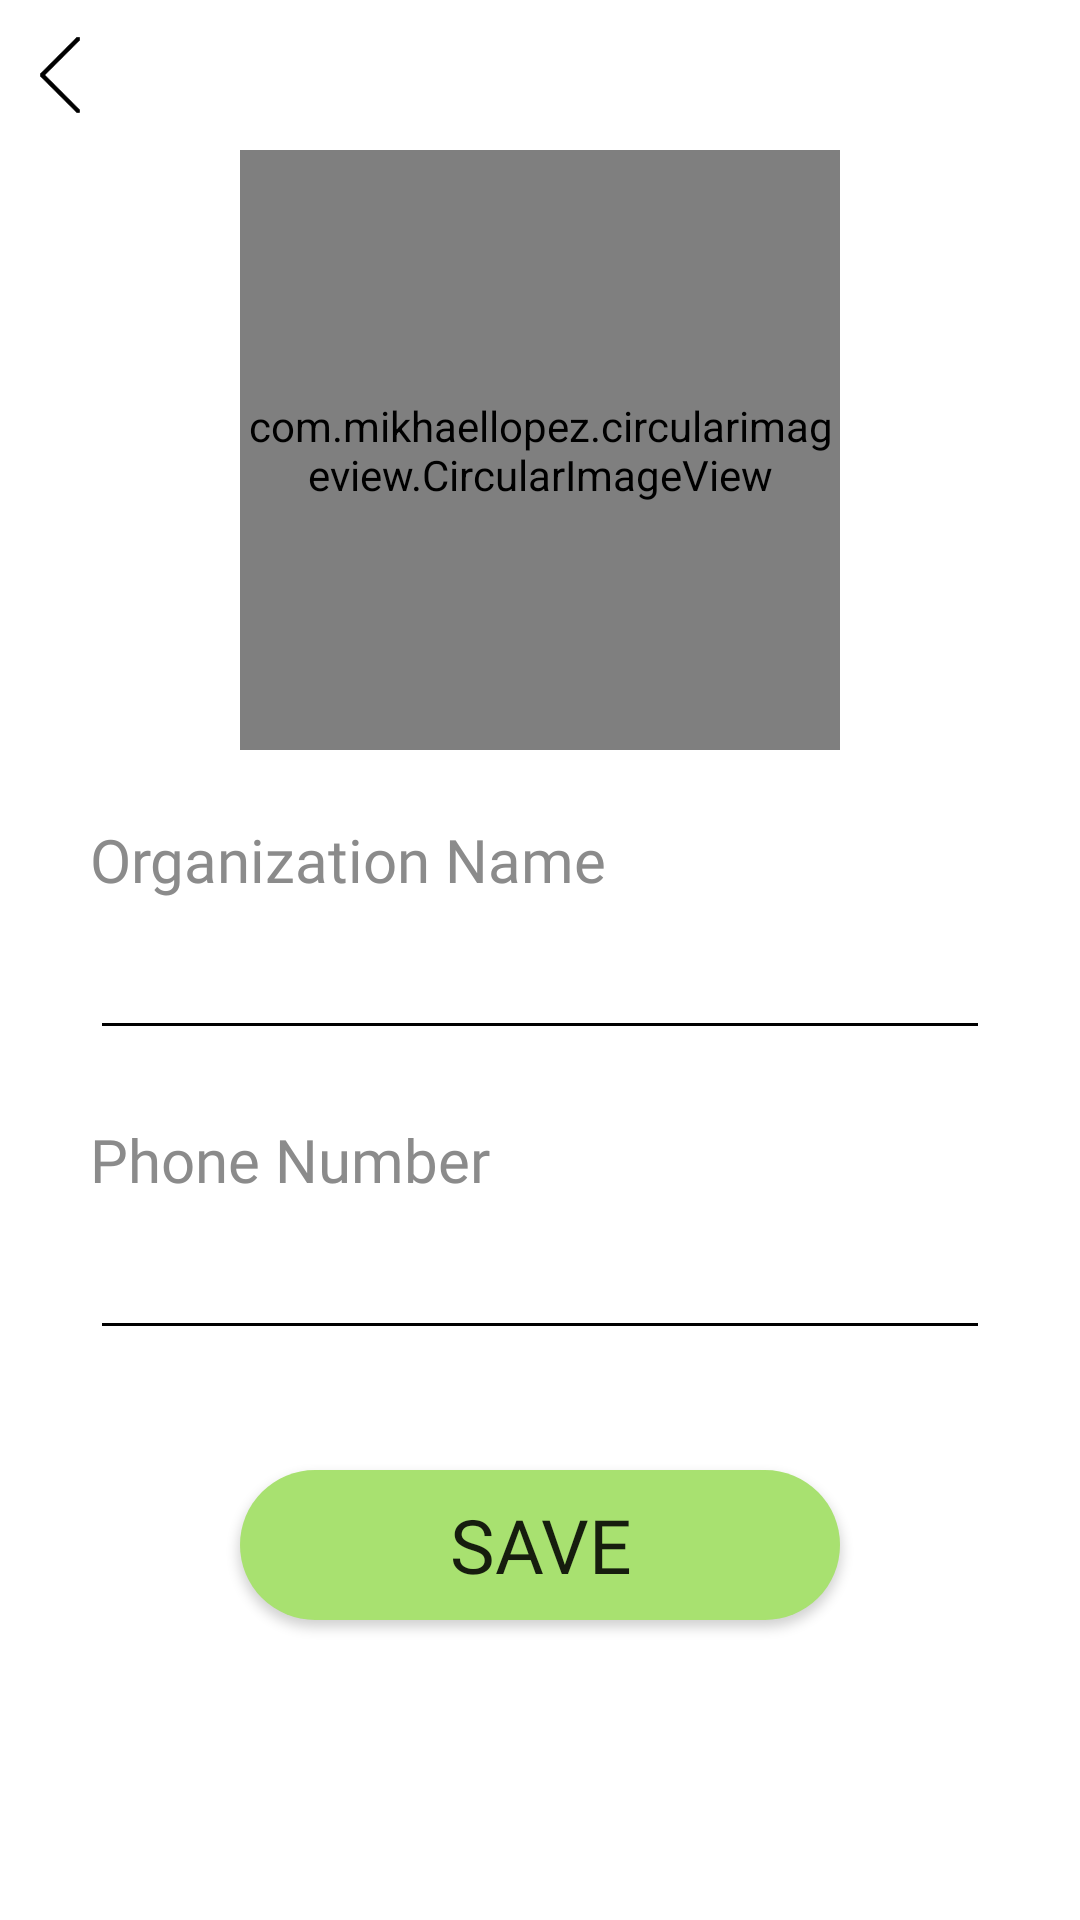

Icon click points for this 1080×1920 phone screenshot, format (x=x, y=y):
back: (x=60, y=75)
